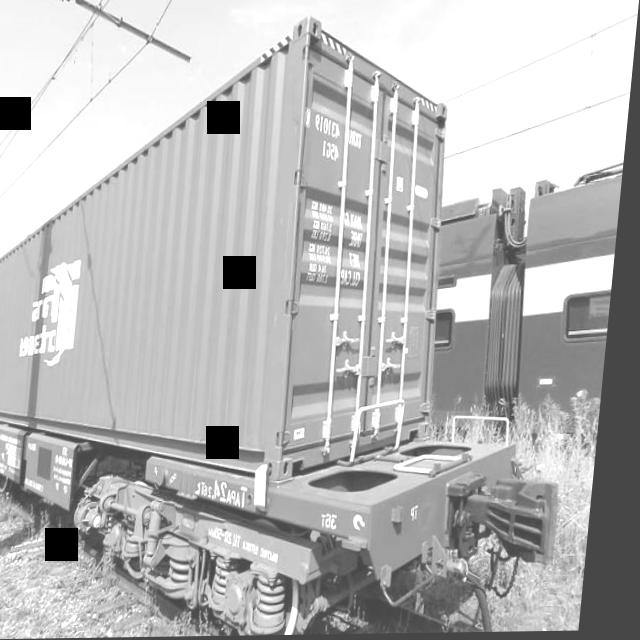container: (0, 5, 476, 498)
flatcar: (0, 403, 584, 640)
